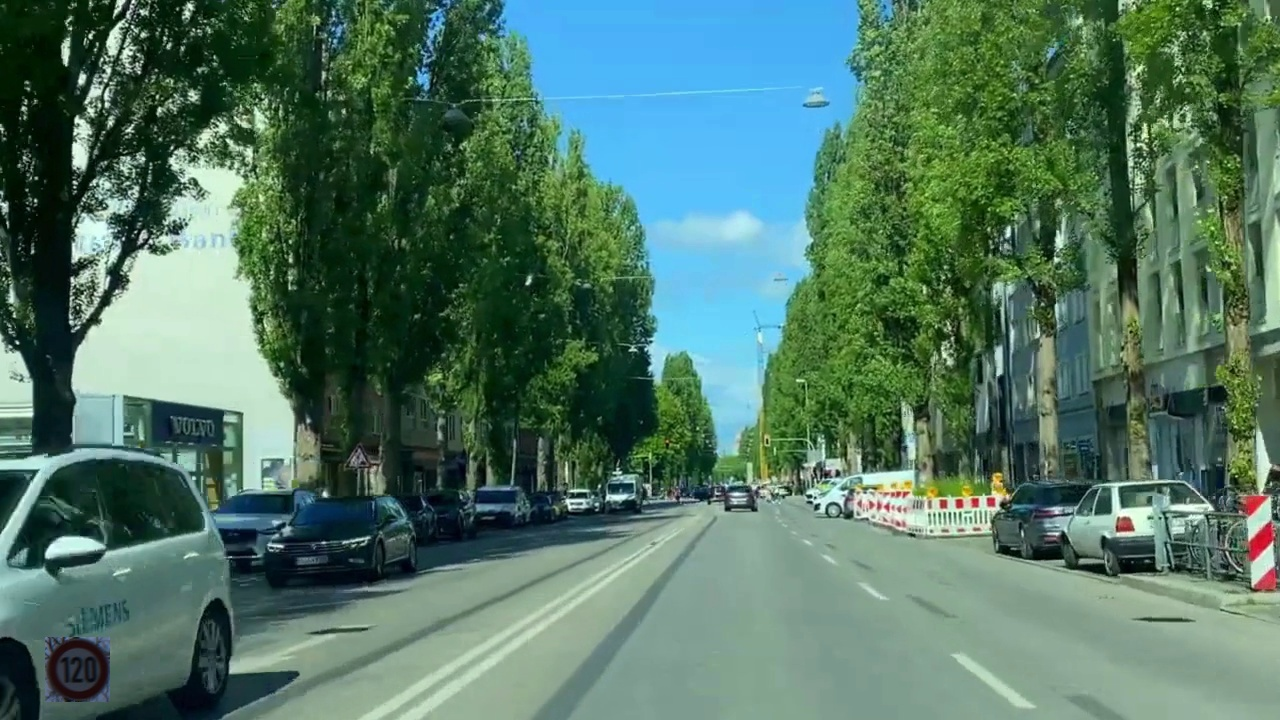Speed 120: (45, 637, 110, 702)
